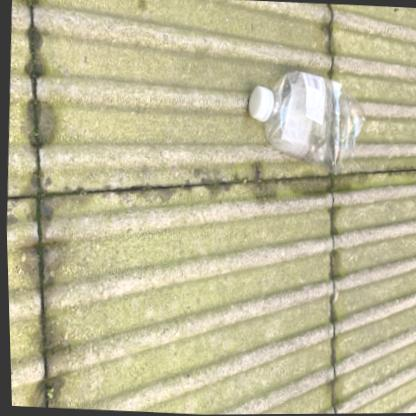Plastic: (246, 71, 363, 174)
